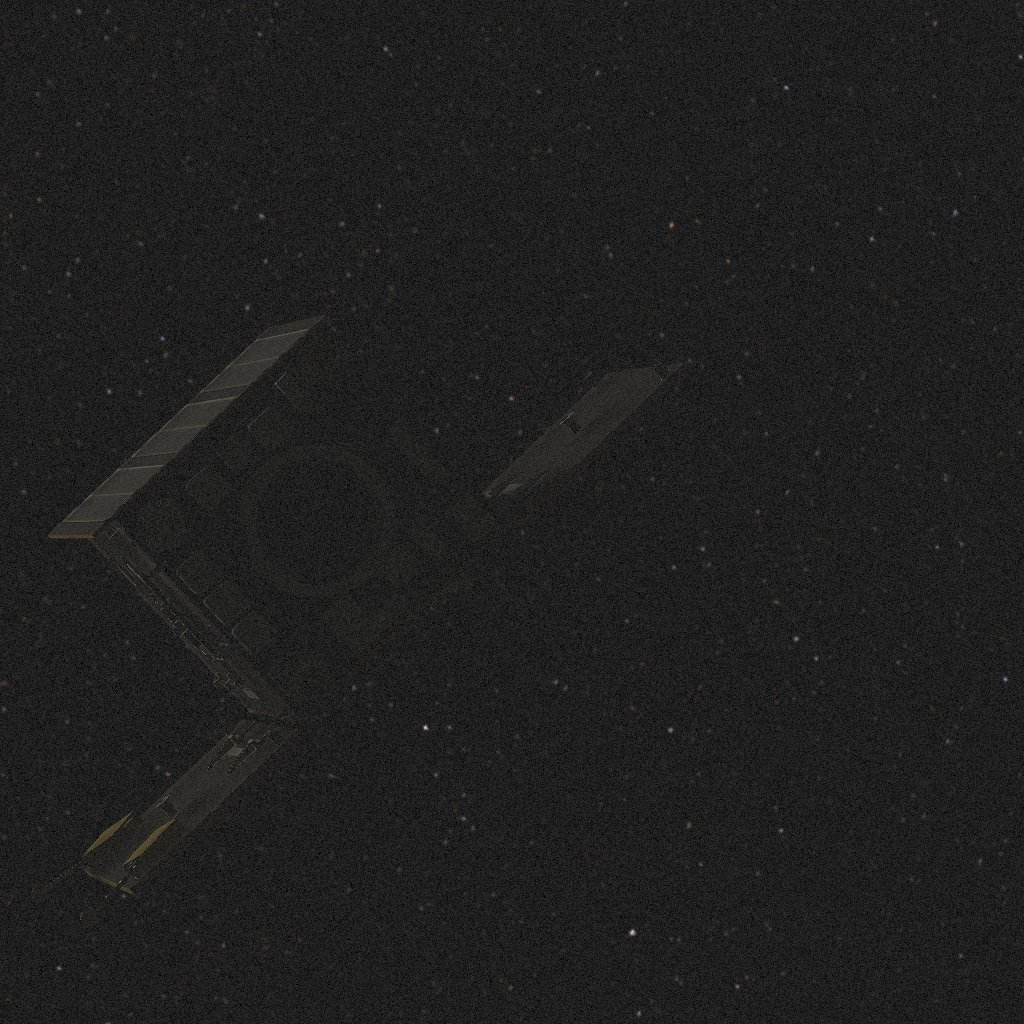proba_2: (32, 315, 689, 927)
